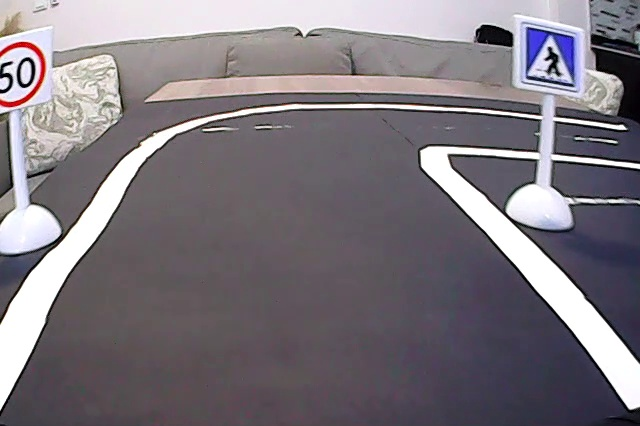pedestrian crossing: (516, 19, 583, 94)
speed limit 50: (1, 31, 50, 109)
